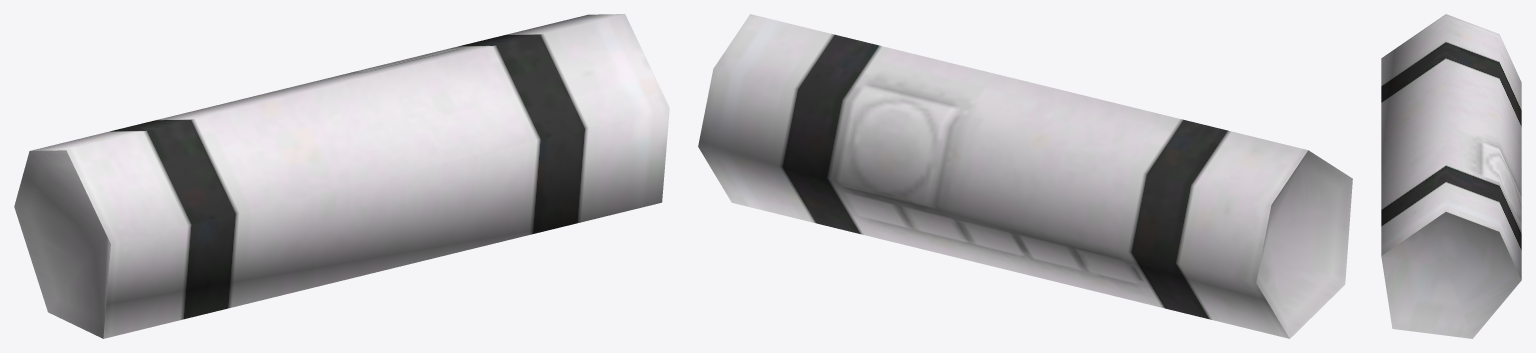
Rendered from wp_grenade_imp_detonator_l1.fbx.
3 renders of one model, left to right at view 1: azimuth 30°, elevation 25°; view 2: azimuth 150°, elevation 25°; view 3: azimuth 270°, elevation 25°, orthographic. The views are drawn at different scales.
Parts seen in each view (by area): view 1: mesh_node; view 2: mesh_node; view 3: mesh_node.
Part boxes in pixels (x1,y1,x2,y2): mesh_node: (14, 14, 669, 338); mesh_node: (698, 14, 1352, 338); mesh_node: (1381, 14, 1521, 338).
Bounding box in the file's own units: 0.2394 × 0.0719 × 0.0719.
1 material, 1 textured.
